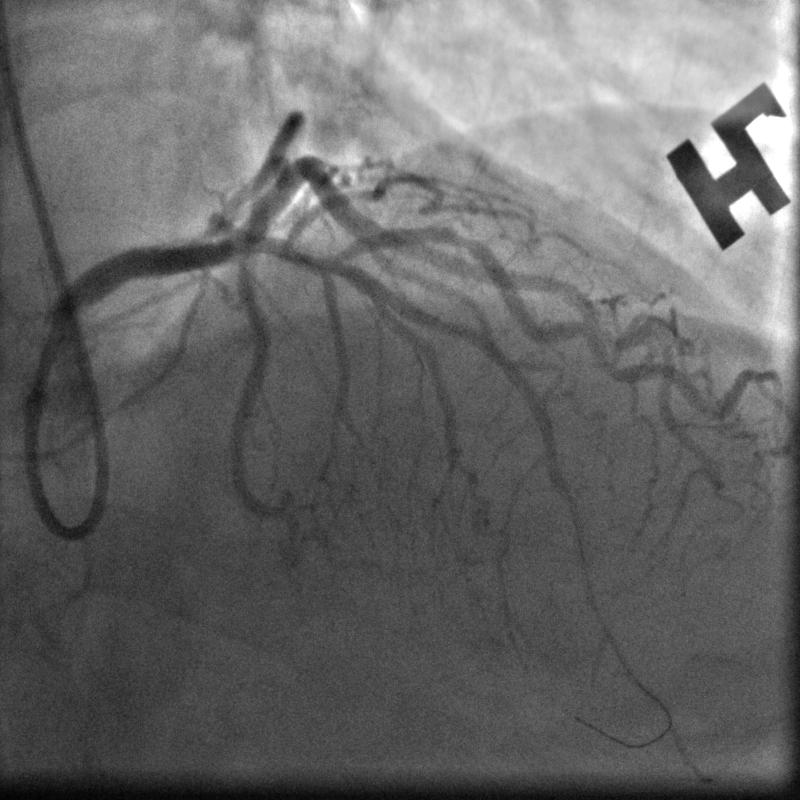Stenosis: (446, 220, 486, 259)
